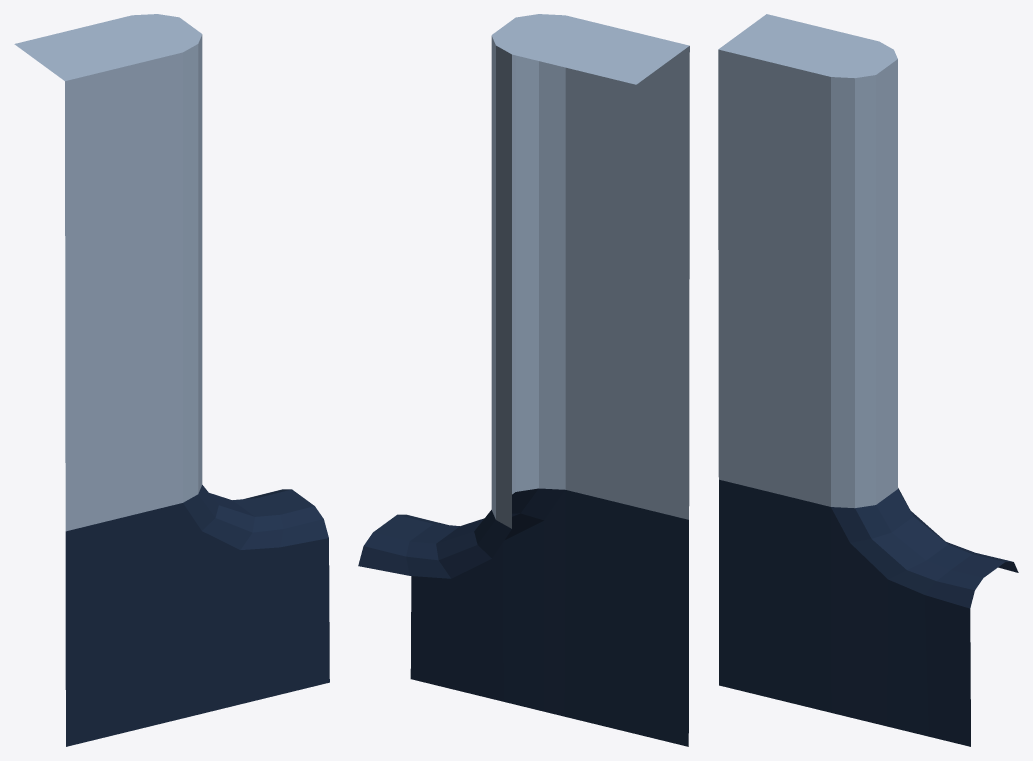
The model's file is LeftCorner.fbx.
The picture shows the model from 3 angles, left to right: view 1: azimuth 30°, elevation 25°; view 2: azimuth 150°, elevation 25°; view 3: azimuth 330°, elevation 25°; orthographic projection. The views are drawn at different scales.
Parts seen in each view (by area): view 1: FrontCornerLeft; view 2: FrontCornerLeft; view 3: FrontCornerLeft.
Boxes of the visible parts, x1,y1,x2,y2 form: FrontCornerLeft: (14,14,329,746); FrontCornerLeft: (358,14,689,746); FrontCornerLeft: (718,14,1018,746).
Bounding box in the file's own units: 117 × 282 × 39.
